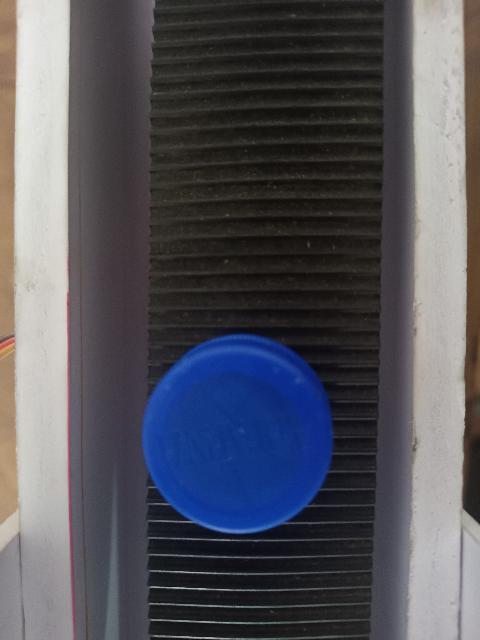bottlecap: (140, 330, 336, 540)
